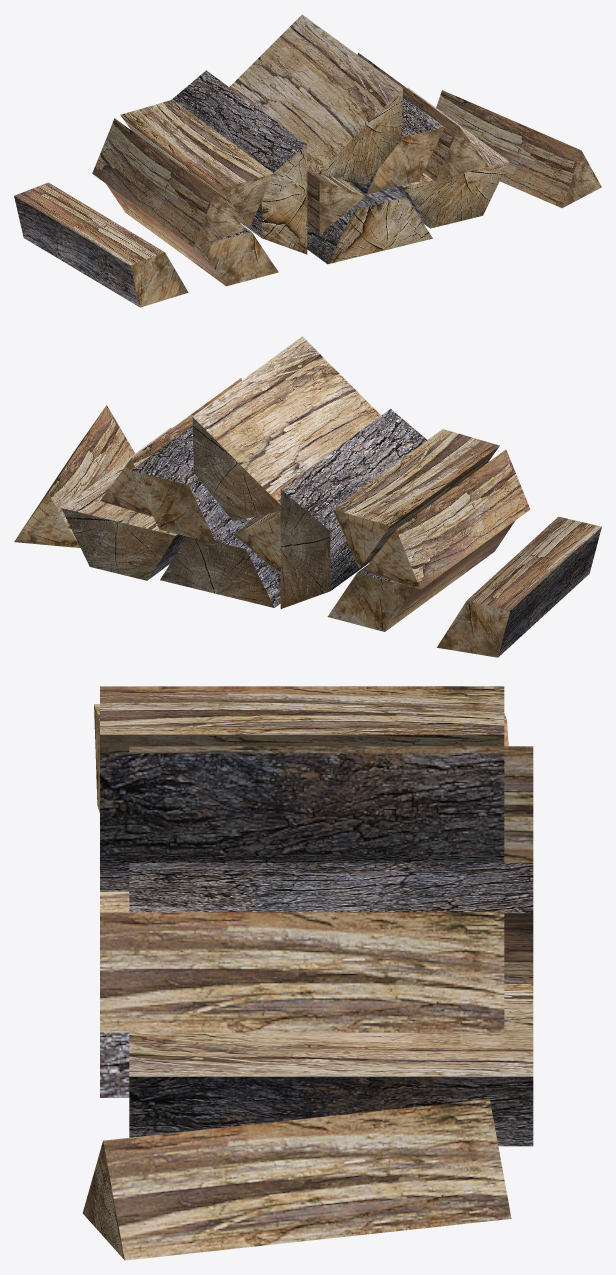
File: wood1.fbx
3 renders of one model, top to bottom at view 1: azimuth 30°, elevation 25°; view 2: azimuth 150°, elevation 25°; view 3: azimuth 270°, elevation 25°, orthographic. The views are drawn at different scales.
Visible parts, largest first — view 1: polySurface650; view 2: polySurface650; view 3: polySurface650.
Boxes of the visible parts, x1,y1,x2,y2 form: polySurface650: (14, 14, 601, 307); polySurface650: (14, 336, 601, 657); polySurface650: (82, 686, 533, 1260).
Size of the model in its own units: 1.15 by 0.3499 by 0.4533.
